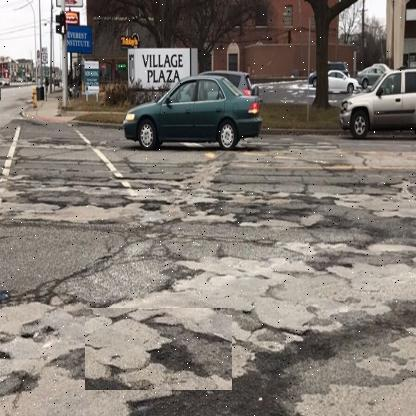damage: (85, 308, 233, 391), (314, 148, 400, 285), (245, 299, 384, 378), (15, 164, 166, 228), (192, 178, 305, 258)
